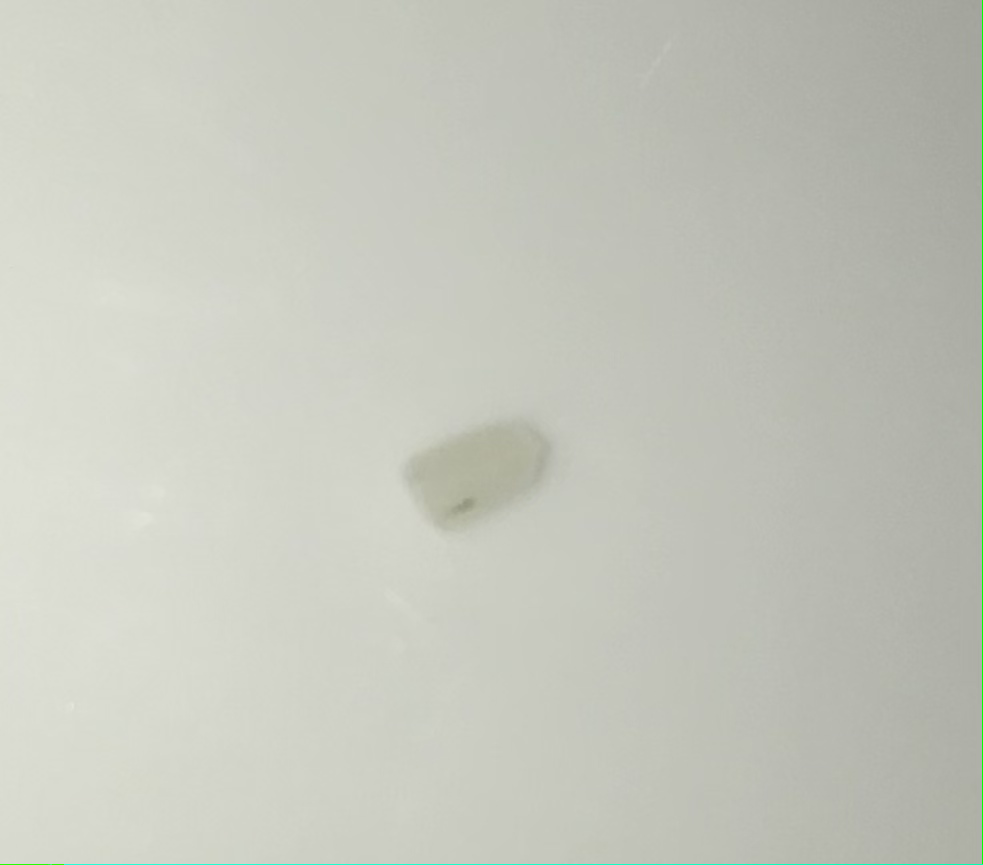Gao Tam: (382, 421, 582, 541)
